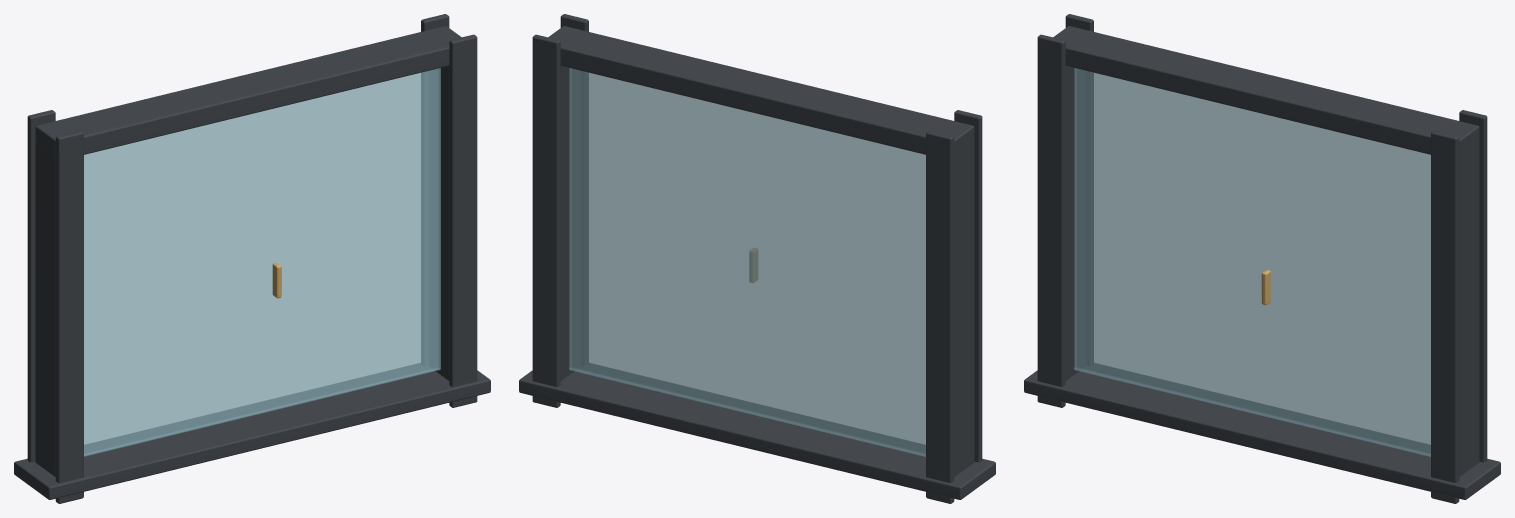
Rendered from window-picture.glb.
The picture shows the model from 3 angles, left to right: view 1: azimuth 30°, elevation 25°; view 2: azimuth 150°, elevation 25°; view 3: azimuth 330°, elevation 25°; orthographic projection.
Parts seen in each view (by area): view 1: Glazing.004, Sill.004, Lintel.014, Architrave.058, Architrave.056, Jamb.028, Jamb.029, Architrave.057, Architrave.059; view 2: Glazing.004, Sill.004, Lintel.014, Architrave.059, Architrave.057, Jamb.028, Jamb.029, Architrave.056, Architrave.058; view 3: Glazing.004, Sill.004, Lintel.014, Architrave.056, Architrave.058, Jamb.029, Jamb.028, Architrave.059, Architrave.057.
Boxes of the visible parts, x1,y1,x2,y2 form: Glazing.004: (84, 68, 440, 456); Sill.004: (14, 363, 490, 499); Lintel.014: (35, 26, 461, 157); Architrave.058: (449, 34, 477, 407); Architrave.056: (55, 130, 83, 503); Jamb.028: (35, 129, 55, 476); Jamb.029: (429, 66, 449, 380); Architrave.057: (27, 110, 55, 462); Architrave.059: (421, 14, 449, 365); Glazing.004: (569, 68, 925, 456); Sill.004: (519, 363, 995, 499); Lintel.014: (548, 26, 974, 157); Architrave.059: (532, 34, 560, 407); Architrave.057: (926, 130, 954, 503); Jamb.028: (954, 126, 974, 476); Jamb.029: (560, 66, 580, 380); Architrave.056: (954, 110, 982, 462); Architrave.058: (560, 14, 588, 365); Glazing.004: (1074, 68, 1430, 456); Sill.004: (1024, 363, 1500, 499); Lintel.014: (1053, 26, 1479, 157); Architrave.056: (1037, 34, 1065, 407); Architrave.058: (1431, 130, 1459, 503); Jamb.029: (1459, 124, 1479, 476); Jamb.028: (1065, 66, 1085, 380); Architrave.059: (1459, 110, 1487, 462); Architrave.057: (1065, 14, 1093, 365).
Bounding box in the file's own units: 1.72 × 1.36 × 0.24.
